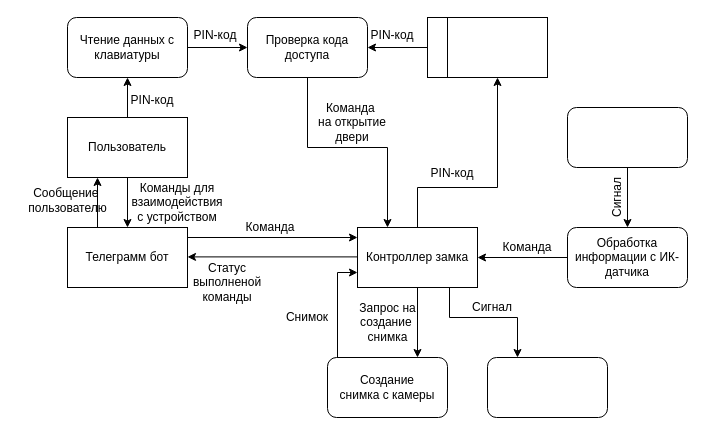
The diagram is 705 pixels wide and 435 high, and some of its shapes have lost their labels. The shapes that lost their labels are listed below. From the top down, each one's box as (x1, y1, x2, y2) in pixels, then its label:
(446, 16, 548, 78): Коды доступа
(566, 106, 688, 168): Чтение информации с ИК-датчика
(486, 356, 608, 418): Открытие/закрытие замка
